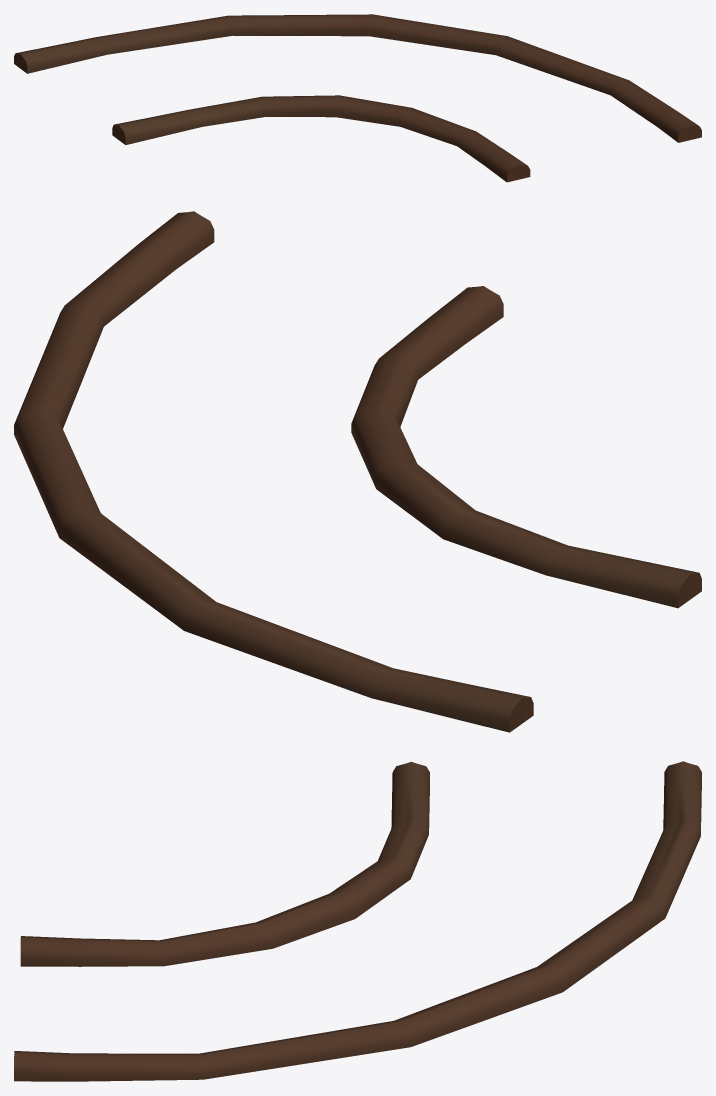
The model's file is DirtBikeTrackBarriersCurved.glb.
3 views of the same model, one above another, from view 1: azimuth 30°, elevation 25°; view 2: azimuth 150°, elevation 25°; view 3: azimuth 270°, elevation 25° (orthographic). The views are drawn at different scales.
Parts seen in each view (by area): view 1: DirtBikeTrackBarriersCurved; view 2: DirtBikeTrackBarriersCurved; view 3: DirtBikeTrackBarriersCurved.
Boxes of the visible parts, x1=… form: DirtBikeTrackBarriersCurved: x1=14, y1=14, x2=701, y2=182; DirtBikeTrackBarriersCurved: x1=14, y1=211, x2=701, y2=732; DirtBikeTrackBarriersCurved: x1=14, y1=761, x2=701, y2=1081.
Bounding box in the file's own units: 11.82 × 0.3824 × 11.46.
1 material, 1 textured.
